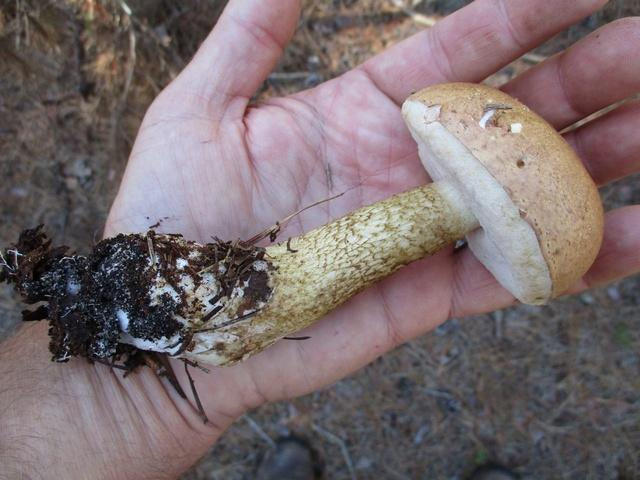Non-edible Mushroom: (44, 84, 600, 328)
